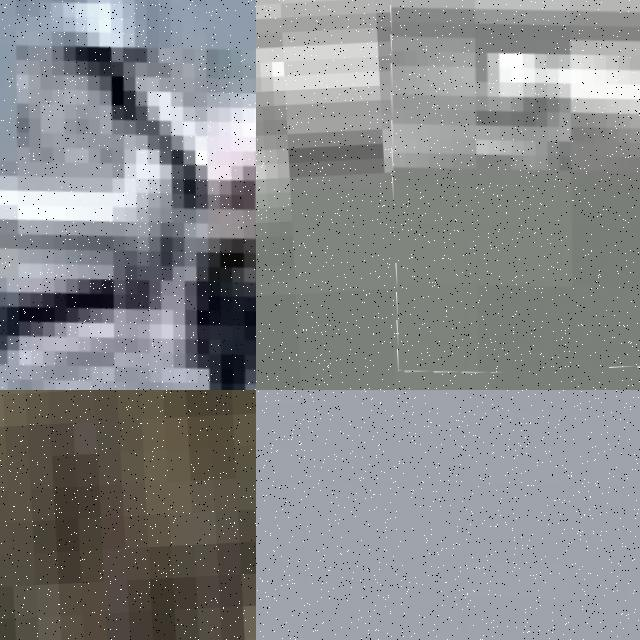drone: (0, 0, 256, 390), (377, 0, 640, 377), (256, 390, 640, 640)
